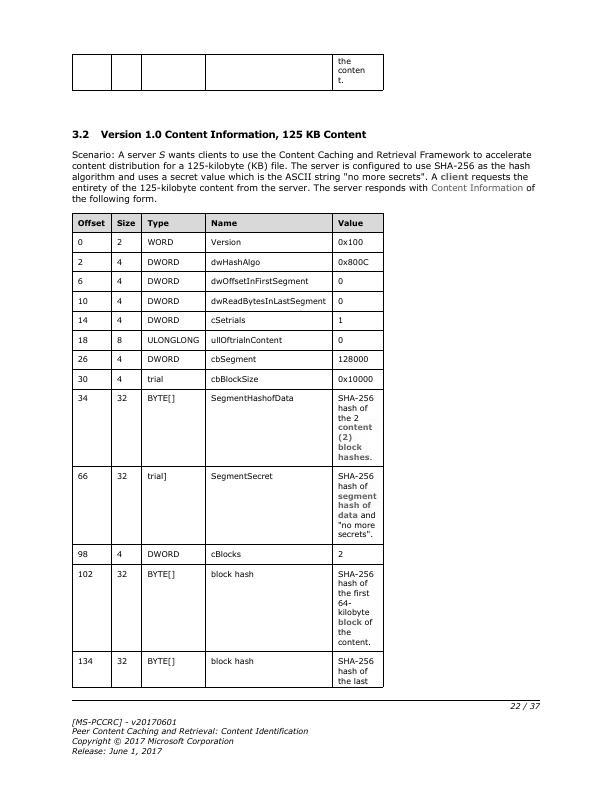table: (70, 210, 386, 691), (70, 52, 387, 94)
text: (68, 149, 538, 205), (68, 715, 308, 754), (68, 129, 369, 140)
